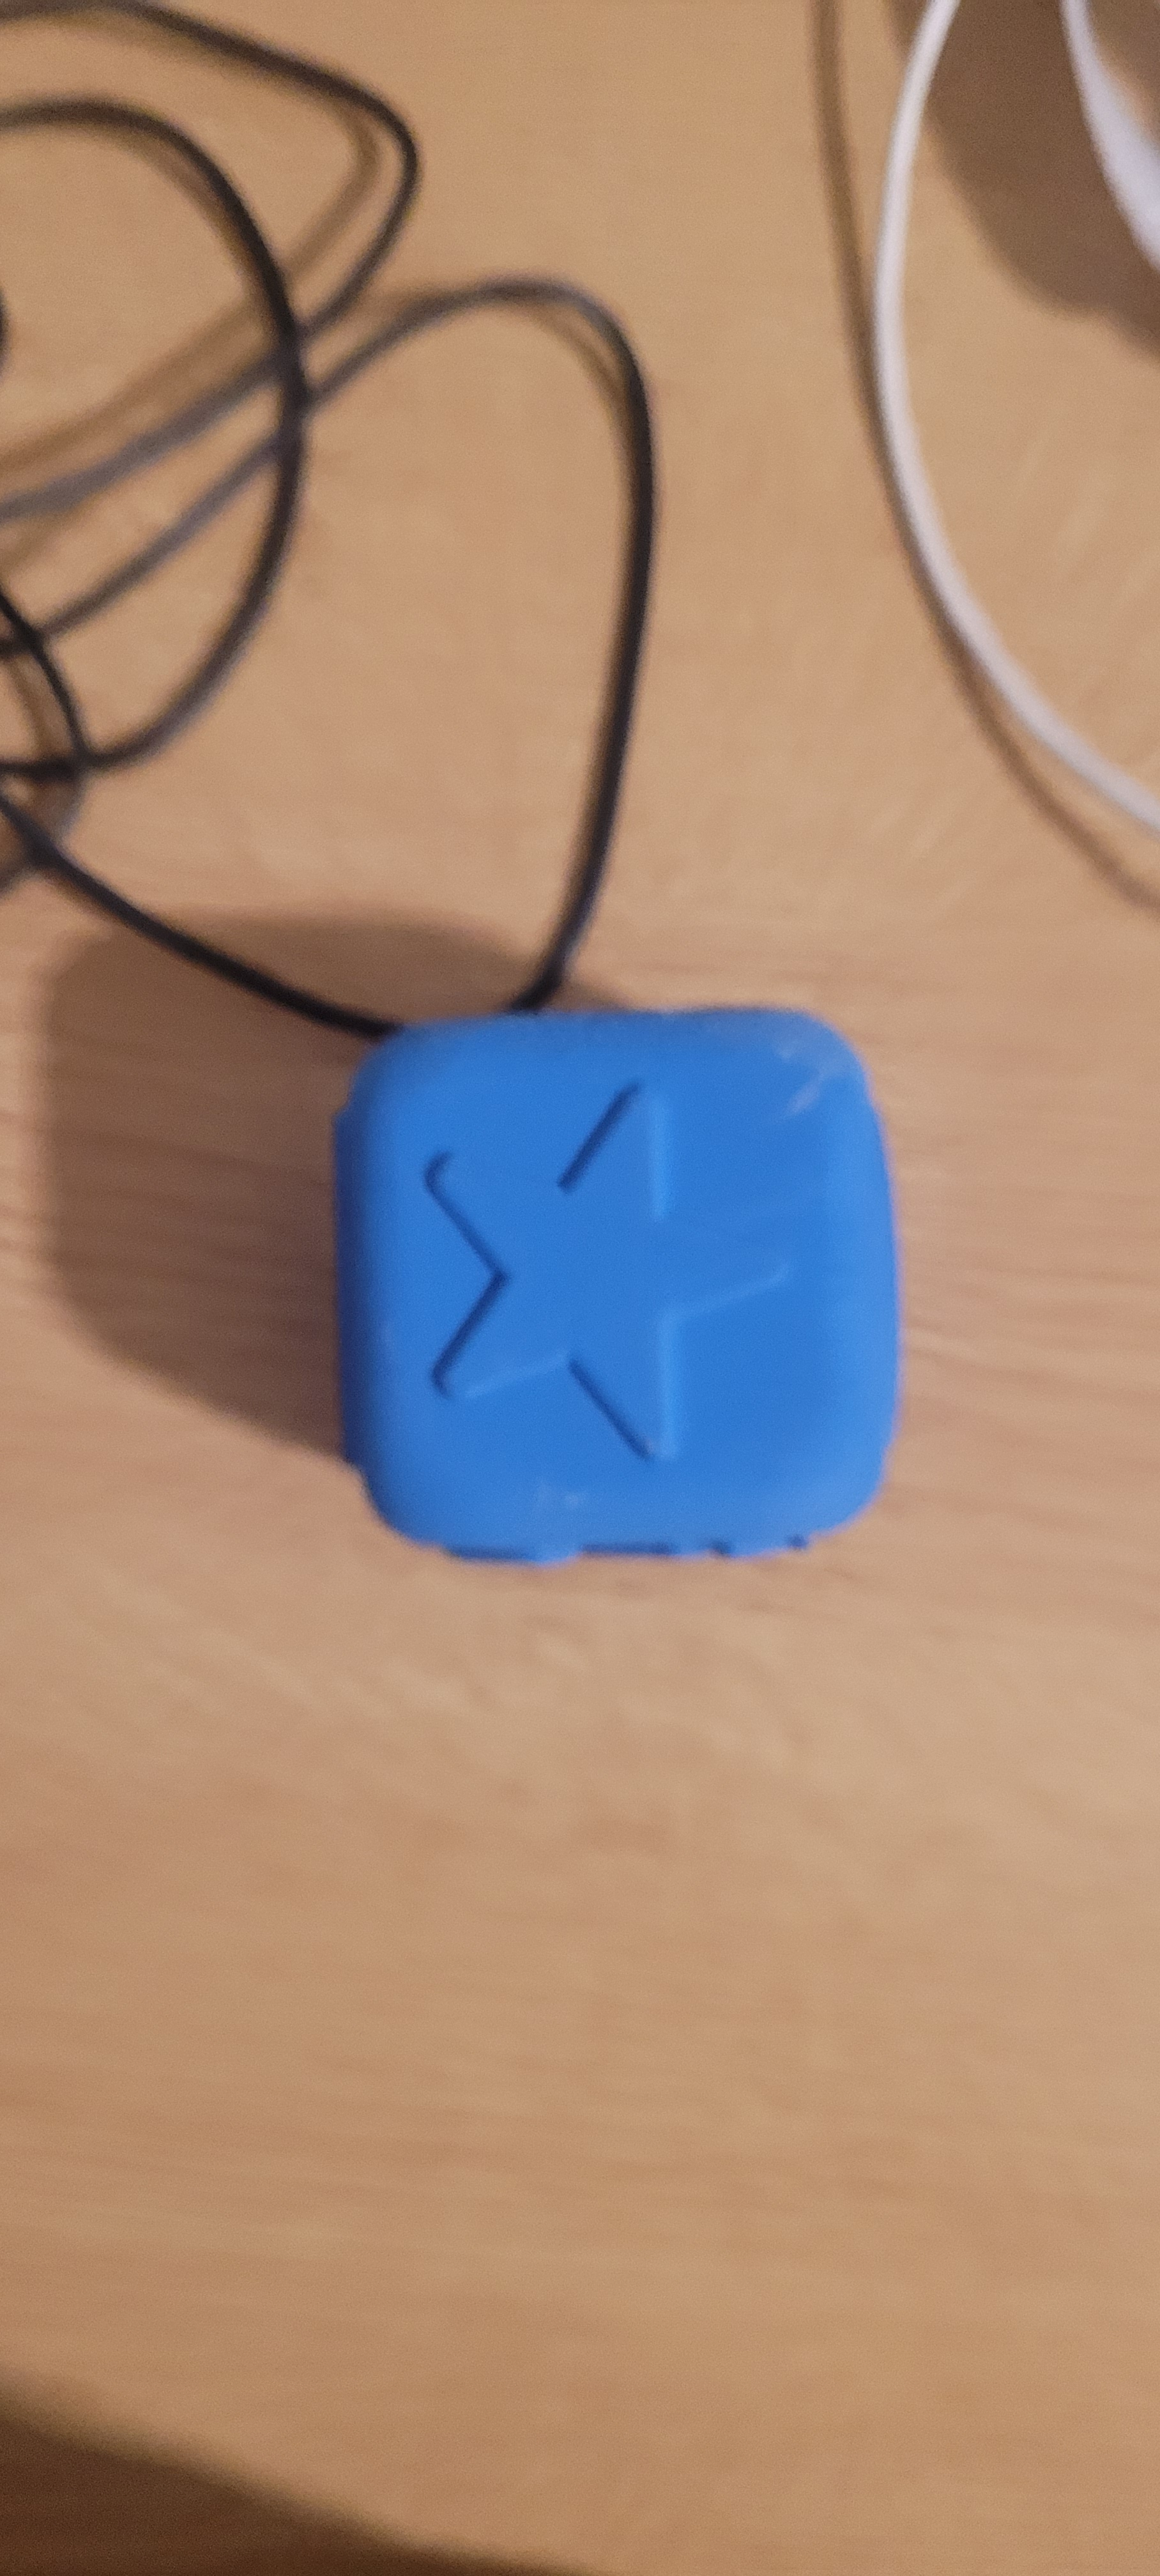Star: (381, 1073, 800, 1497)
